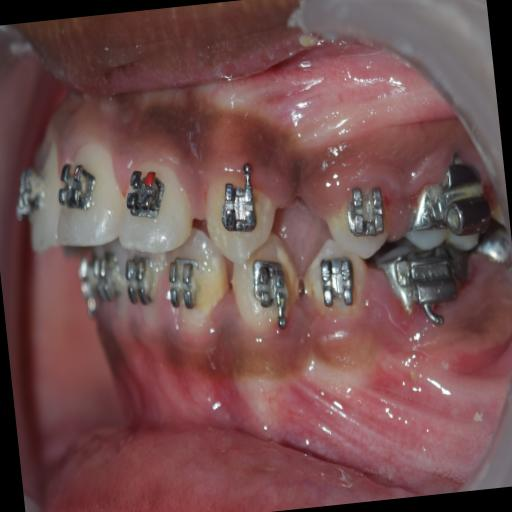correct_brace: (325, 180, 397, 268), (211, 160, 265, 240), (119, 160, 168, 226)
incorrect_brace: (108, 142, 196, 263), (342, 182, 390, 247)
